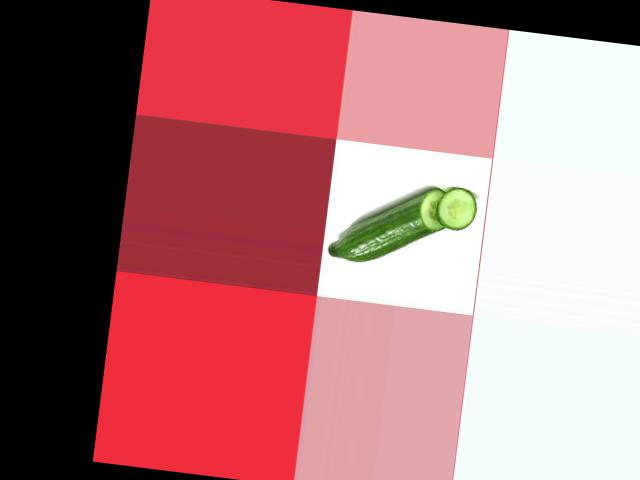cucumber: (327, 175, 452, 271)
